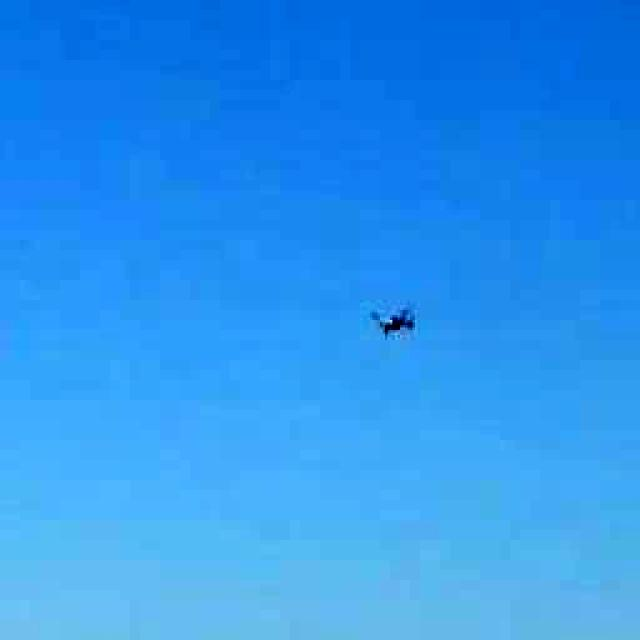bird: (342, 285, 448, 352)
